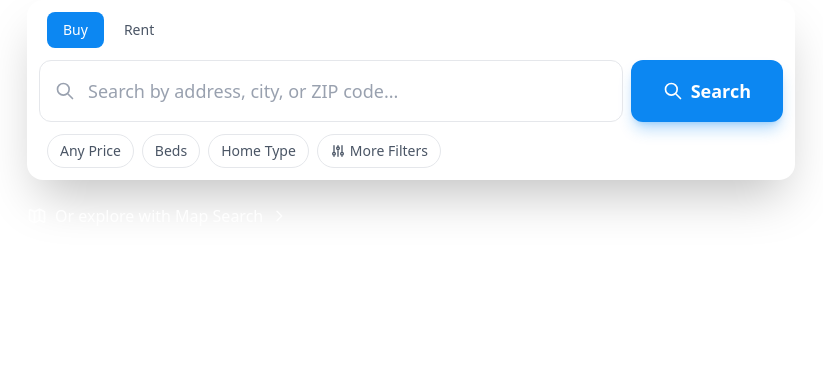
Test: HeroSearch › keyboard navigation › closes dropdown with Escape
Step 1. Type "Sarasota" into the field → point(331, 91), box [39,60,623,122]
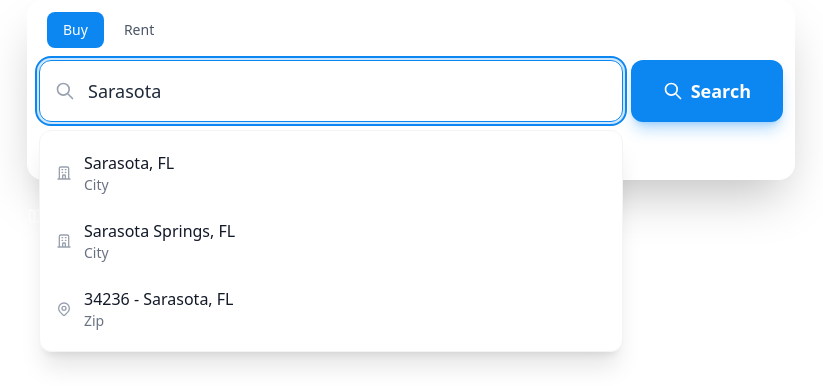
Expected: the text "Sarasota, FL" is shown, [84,152,174,174]
Step 2. Press Escape in the field, box [39,60,623,122]
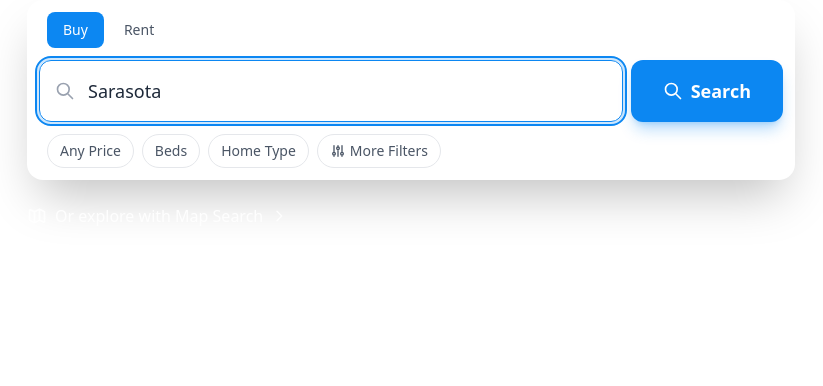
Expected: the button "Sarasota, FL" is gone
